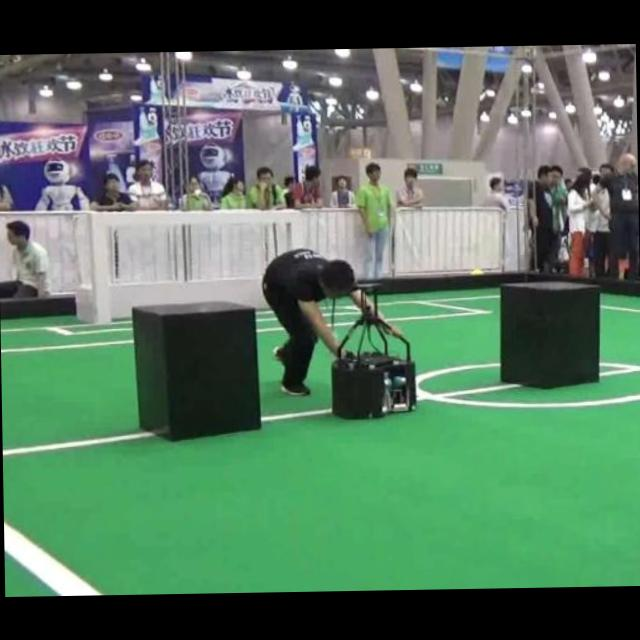goal: (87, 212, 111, 322)
robot: (331, 286, 416, 419)
